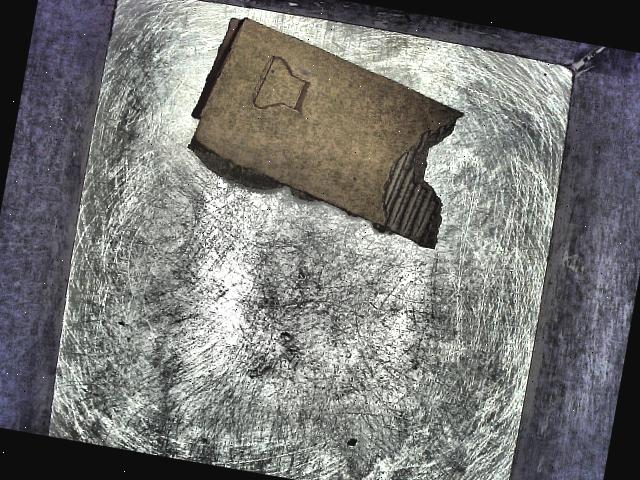Paper: (158, 0, 511, 273)
